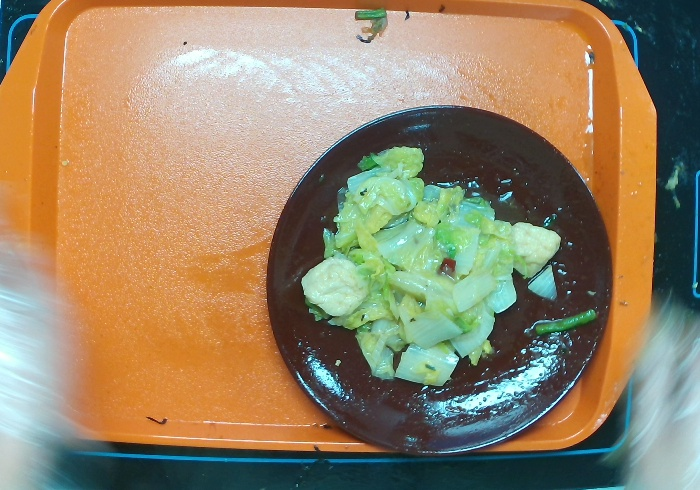HZYJPL-Ka_Fei_Yuan_Pan: (266, 103, 614, 460)
